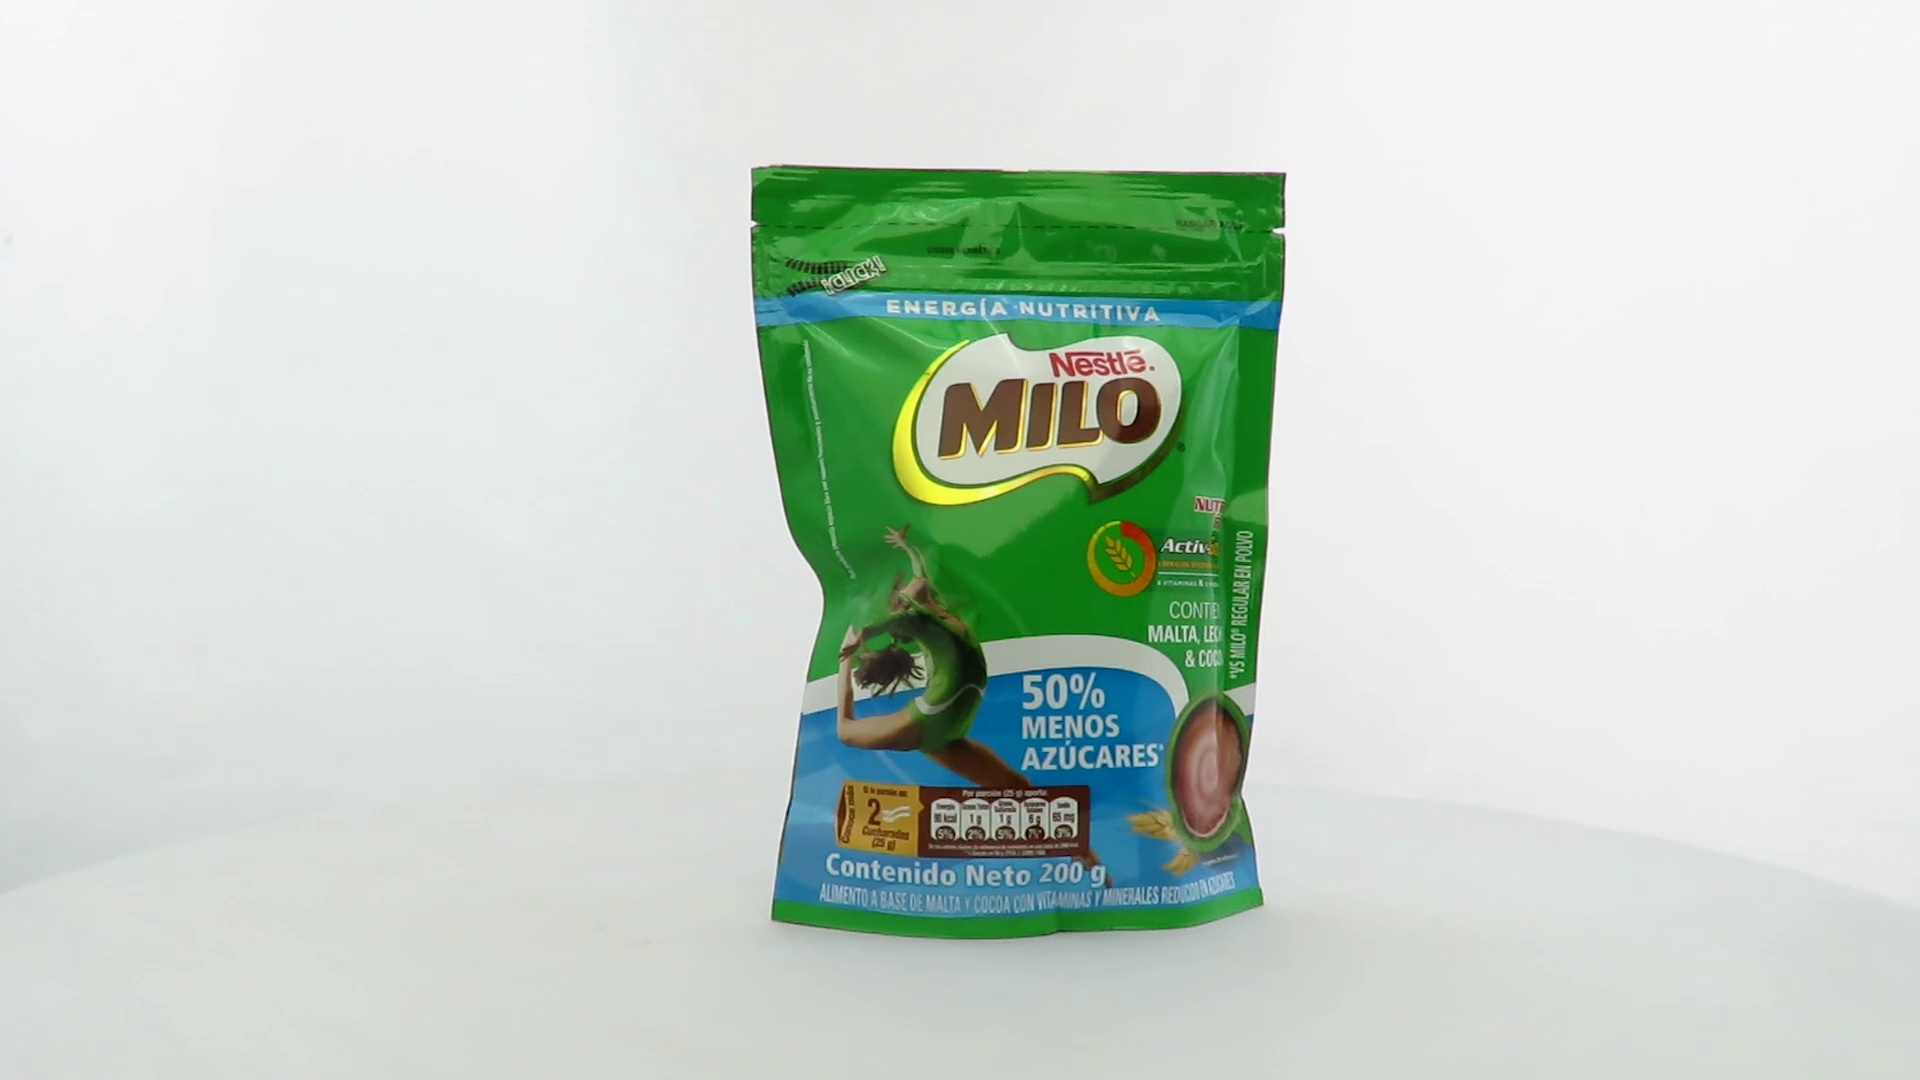COL0170205DYP20000: (745, 160, 1294, 945)
